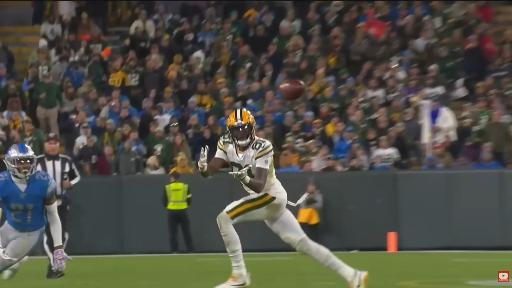Helmet: (4, 144, 35, 179), (227, 109, 255, 146)
Jersey: (215, 134, 286, 197), (0, 171, 56, 231)
Player: (199, 109, 368, 287), (0, 144, 68, 279)
